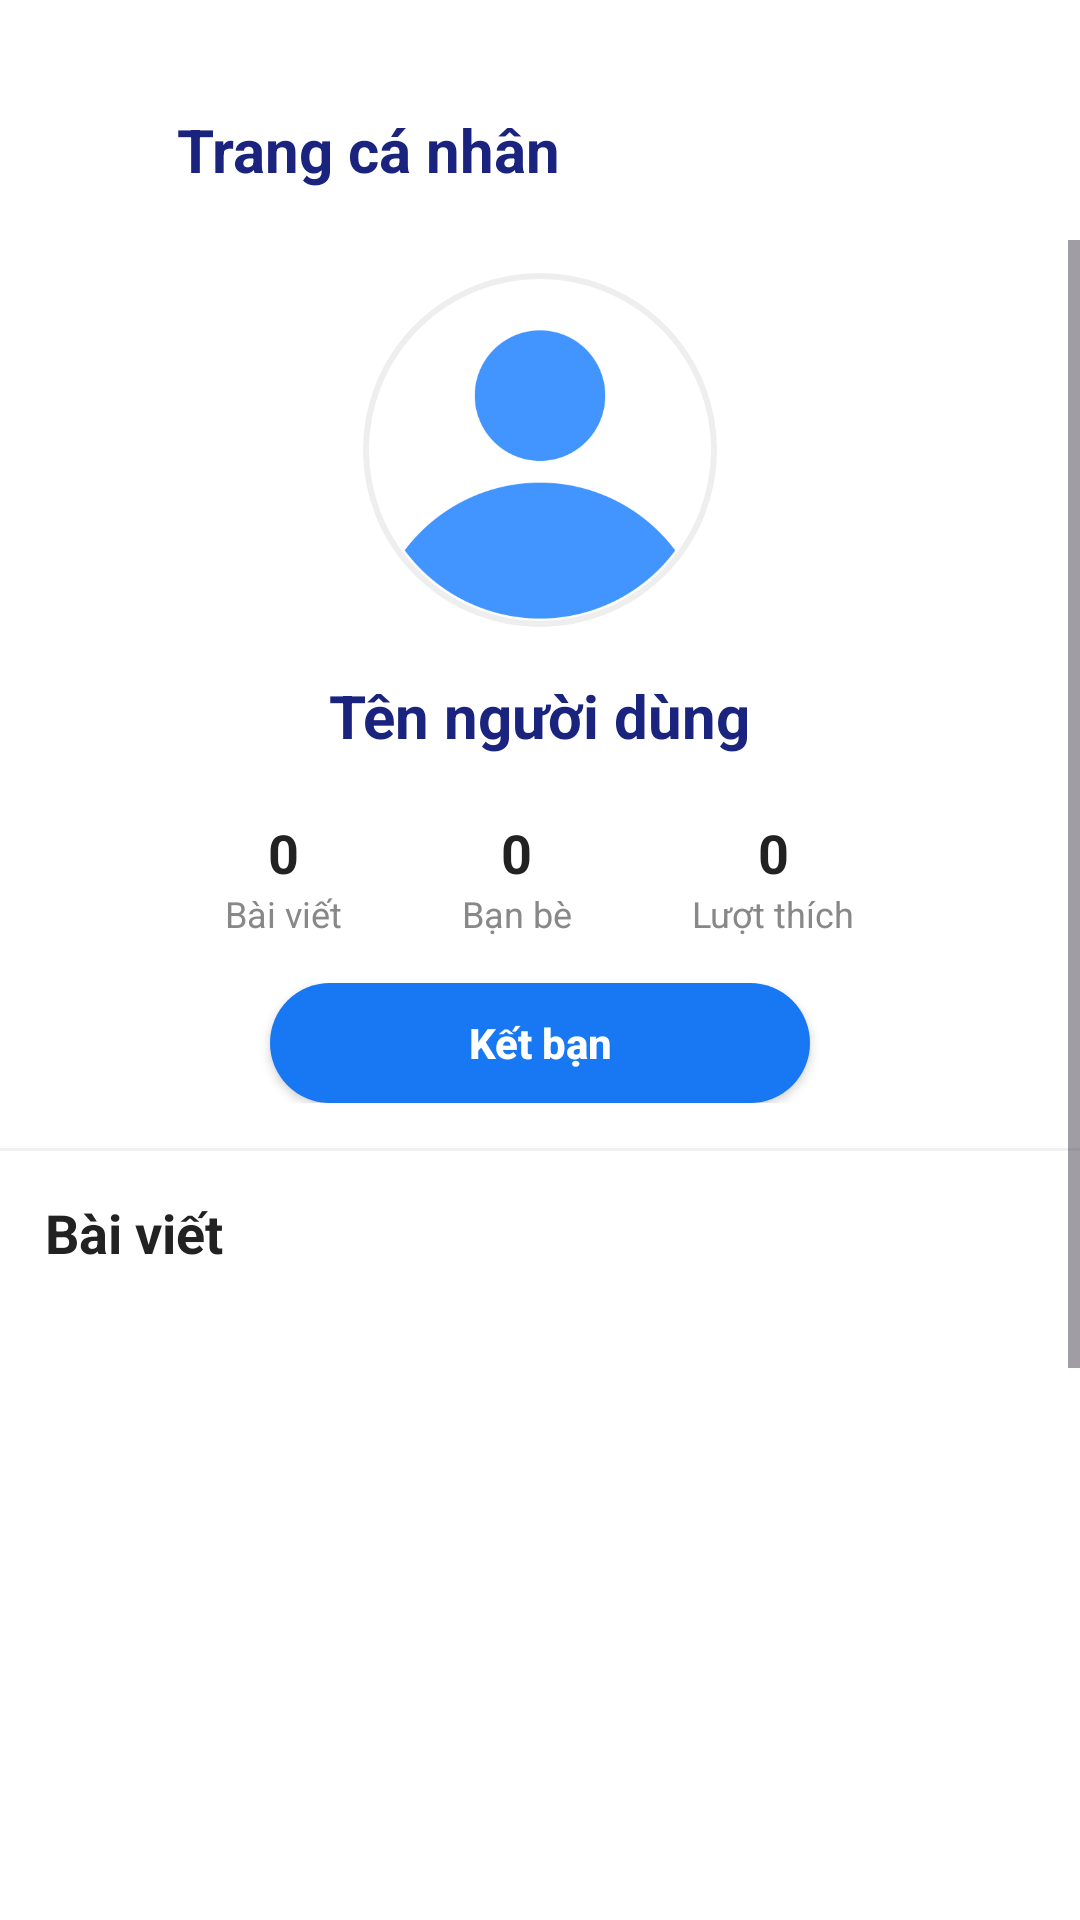

Icon bounding boxes for this 1080 x 1920 phone screenshot, format (x1=x1, y1=y1, x2=x2, y2=y2):
account: (x1=405, y1=330, x2=675, y2=619)
